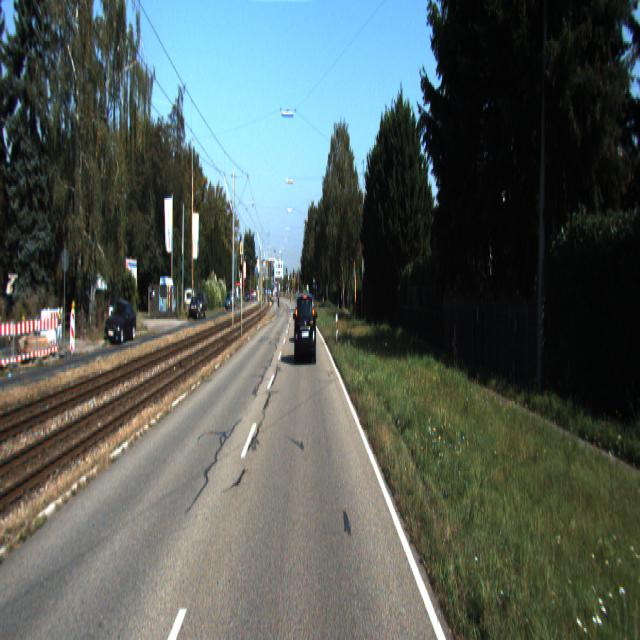Car: (295, 291, 317, 364), (106, 300, 137, 346), (159, 276, 177, 318)
